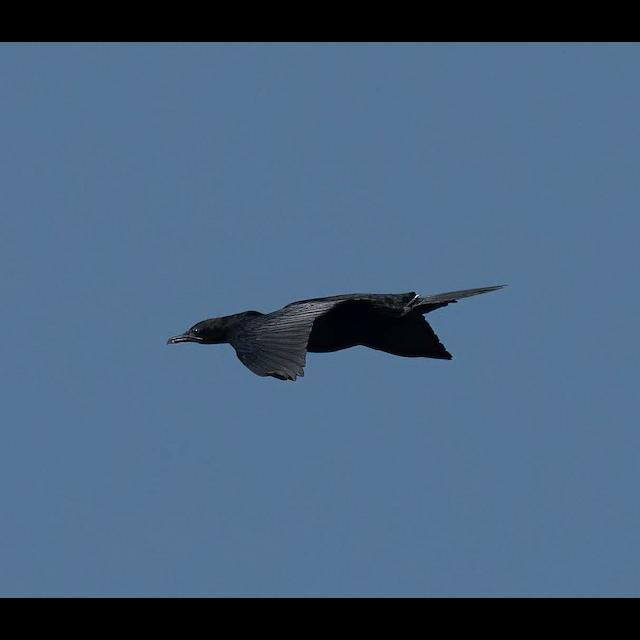cormorant: (163, 267, 509, 378)
